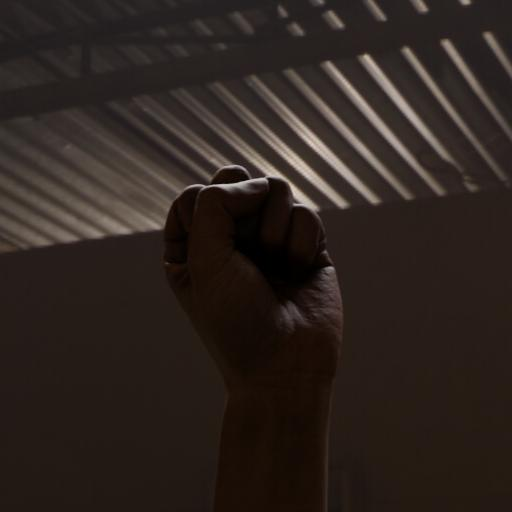S: (156, 164, 358, 445)
